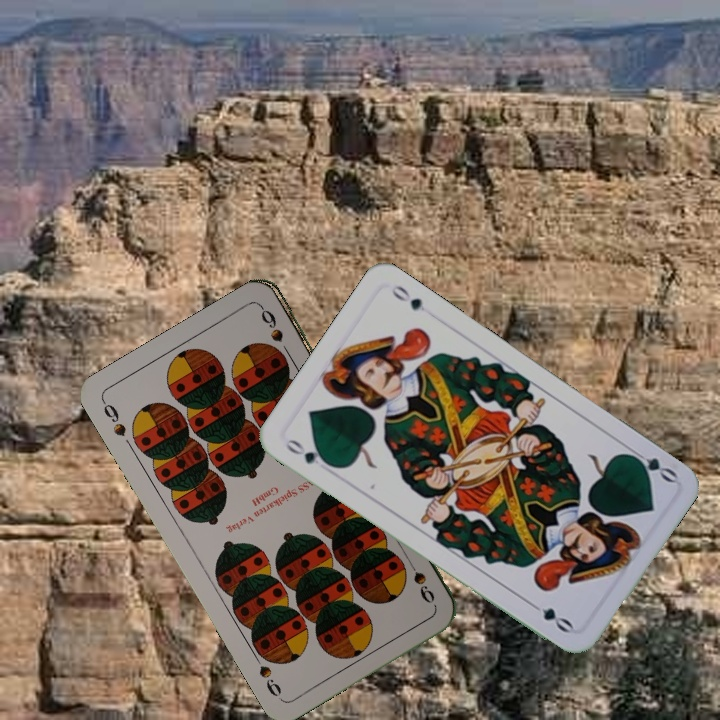GO: (623, 444, 680, 486), (281, 435, 335, 470)
S9: (402, 553, 437, 606), (98, 396, 129, 439)
